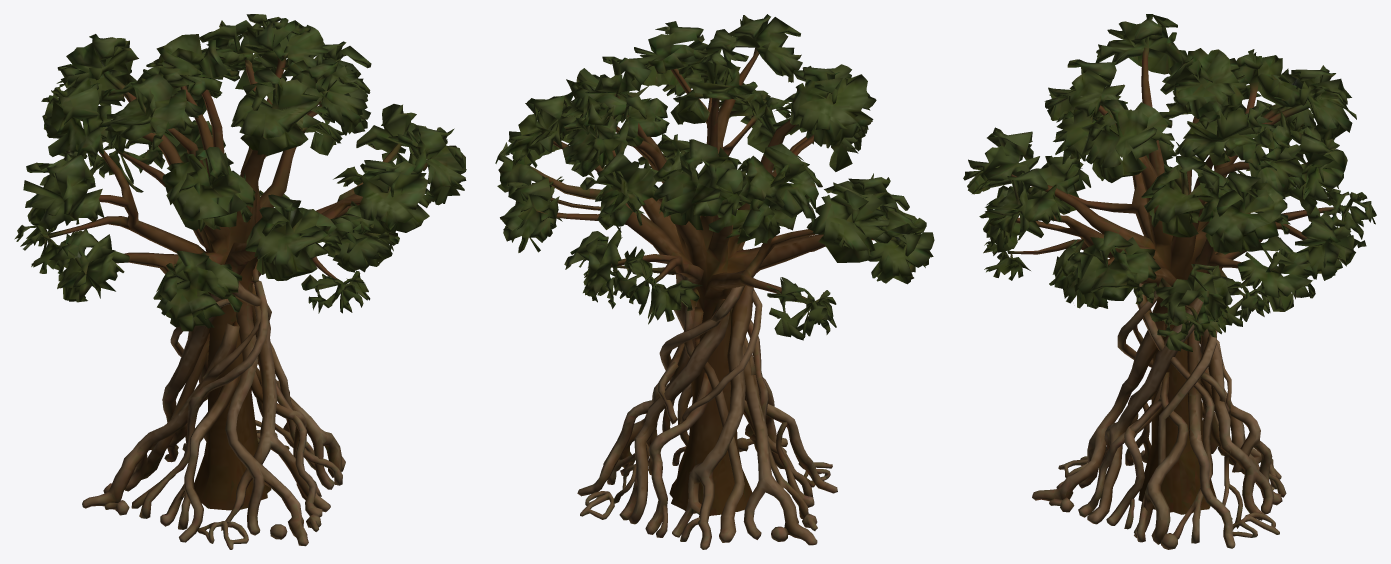
File: jun_strangler_fig_tree_LOD0.glb
3 renders of one model, left to right at view 1: azimuth 30°, elevation 25°; view 2: azimuth 150°, elevation 25°; view 3: azimuth 270°, elevation 25°, orthographic. The views are drawn at different scales.
Visible parts, largest first — view 1: tripo_node_99fa390e-cb52-41d6-ba5c-23c81ccb37db; view 2: tripo_node_99fa390e-cb52-41d6-ba5c-23c81ccb37db; view 3: tripo_node_99fa390e-cb52-41d6-ba5c-23c81ccb37db.
Boxes of the visible parts, x1,y1,x2,y2 form: tripo_node_99fa390e-cb52-41d6-ba5c-23c81ccb37db: (14,14,466,549); tripo_node_99fa390e-cb52-41d6-ba5c-23c81ccb37db: (495,14,934,549); tripo_node_99fa390e-cb52-41d6-ba5c-23c81ccb37db: (963,14,1376,549).
Bounding box in the file's own units: 0.9277 × 0.998 × 0.8574.
Materials: 1 (1 with a texture image).
